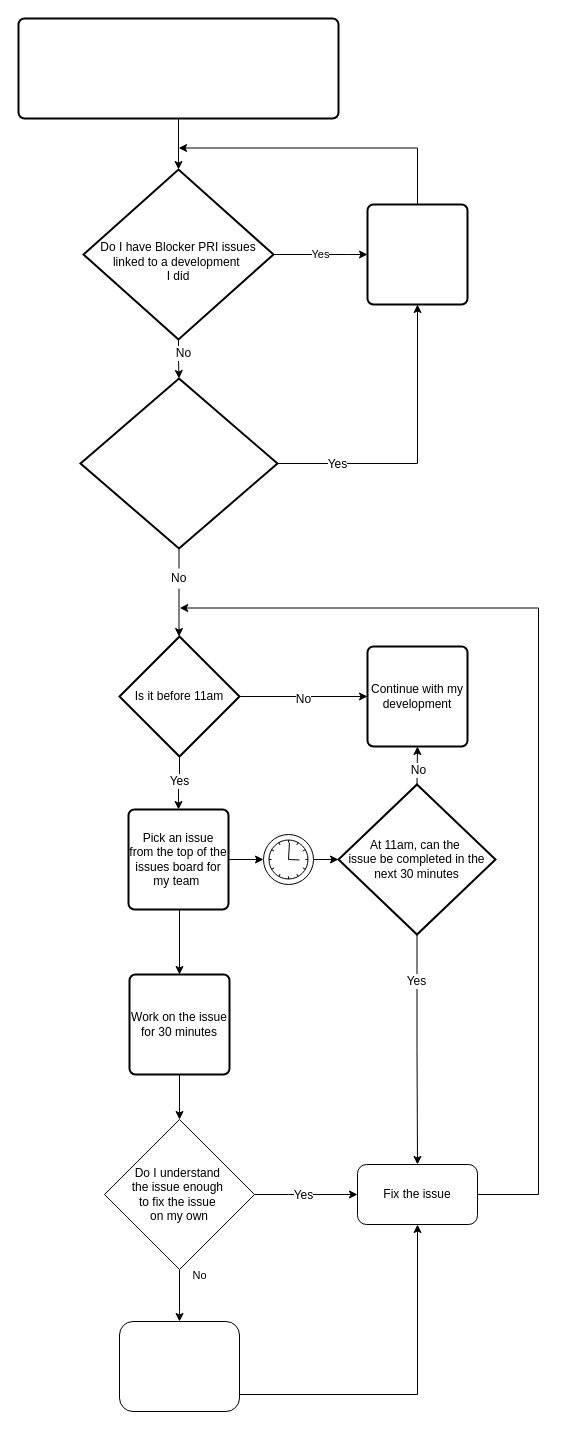
Image size: 564x1429. Some labels were removed from this diagram. The shapes that lost their labels are listed below. From the top down, each one's box as (x1, y1, x2, y2) in pixels, then its label:
(17, 17, 339, 119): Standup
(366, 203, 468, 305): Fix issue
(79, 377, 278, 549): Do I have PRI issues linked to a development I did assigned to me
(262, 834, 314, 884): At 11am
(118, 1320, 240, 1412): Ask a tech lead or senior developer for help
